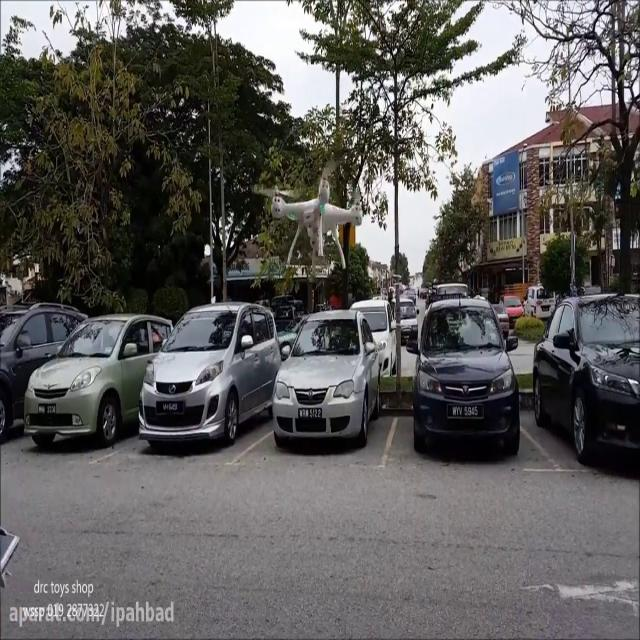drone: (264, 169, 364, 267)
